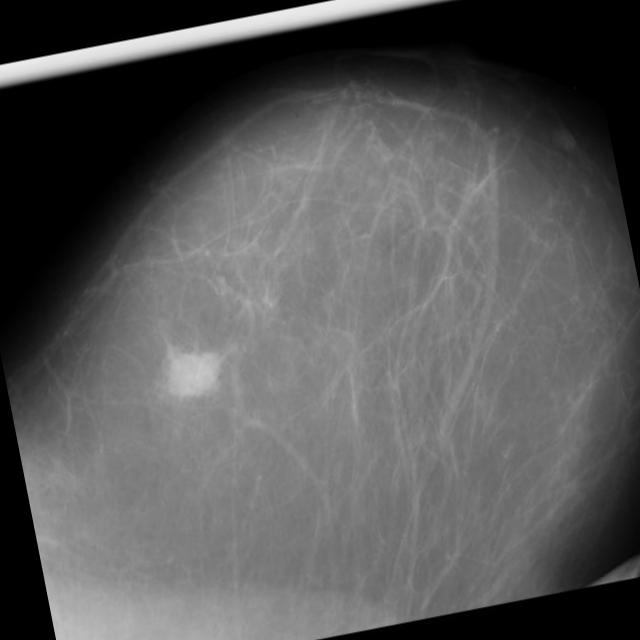MISC: (156, 336, 229, 408)
